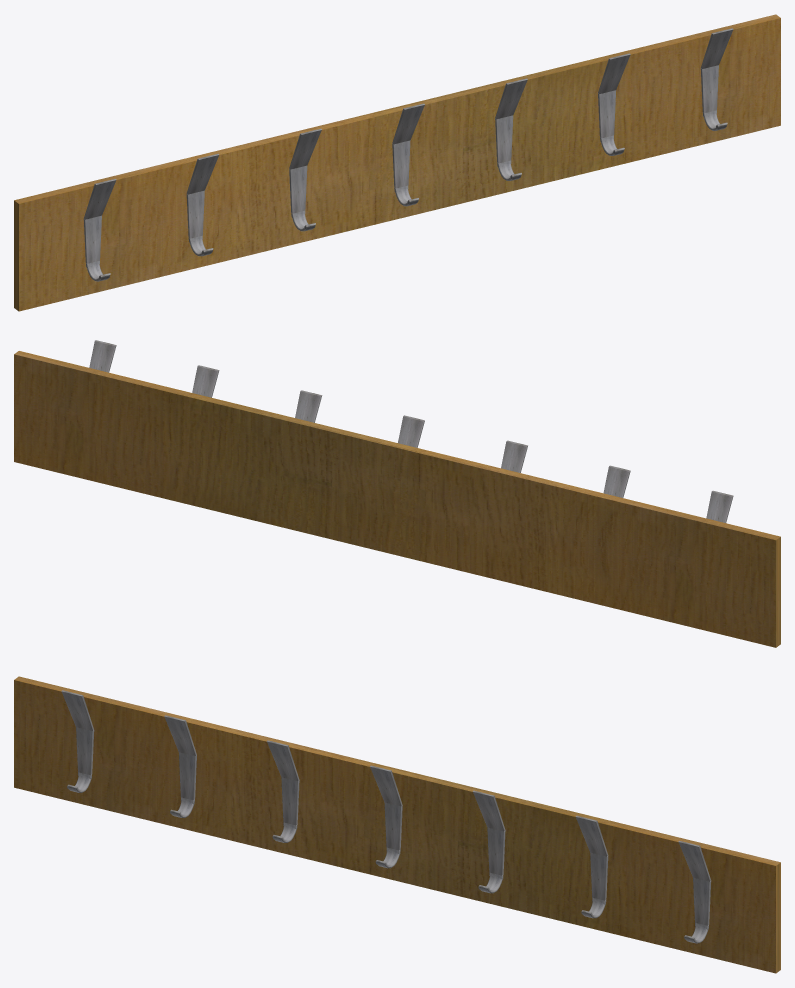
The model's file is Plank and Hooks.fbx.
The picture shows the model from 3 angles, top to bottom: view 1: azimuth 30°, elevation 25°; view 2: azimuth 150°, elevation 25°; view 3: azimuth 330°, elevation 25°; orthographic projection.
Visible parts, largest first — view 1: pCube1, pCube7, pCube8, pCube9, pCube11, pCube10, pCube12, pCube13; view 2: pCube1, pCube10, pCube7, pCube11, pCube8, pCube12, pCube13, pCube9; view 3: pCube1, pCube7, pCube11, pCube8, pCube12, pCube10, pCube13, pCube9.
Boxes of the visible parts, bbox=[...] form: pCube1: bbox=[14, 14, 780, 311]; pCube7: bbox=[392, 103, 424, 206]; pCube8: bbox=[289, 128, 321, 231]; pCube9: bbox=[186, 153, 219, 256]; pCube11: bbox=[495, 78, 527, 180]; pCube10: bbox=[83, 178, 116, 281]; pCube12: bbox=[598, 53, 630, 155]; pCube13: bbox=[700, 28, 733, 130]; pCube1: bbox=[14, 351, 780, 647]; pCube10: bbox=[706, 490, 733, 522]; pCube7: bbox=[398, 415, 424, 447]; pCube11: bbox=[295, 390, 322, 422]; pCube8: bbox=[501, 440, 527, 472]; pCube12: bbox=[192, 365, 219, 397]; pCube13: bbox=[89, 340, 116, 372]; pCube9: bbox=[603, 465, 630, 497]; pCube1: bbox=[14, 676, 780, 973]; pCube7: bbox=[370, 765, 402, 868]; pCube11: bbox=[472, 790, 505, 893]; pCube8: bbox=[266, 740, 299, 842]; pCube12: bbox=[575, 815, 608, 918]; pCube10: bbox=[61, 690, 94, 792]; pCube13: bbox=[678, 840, 711, 943]; pCube9: bbox=[164, 715, 196, 817].
Size of the model in its own units: 1.11 by 0.1709 by 0.0502.
Materials: 2 (2 with a texture image).
